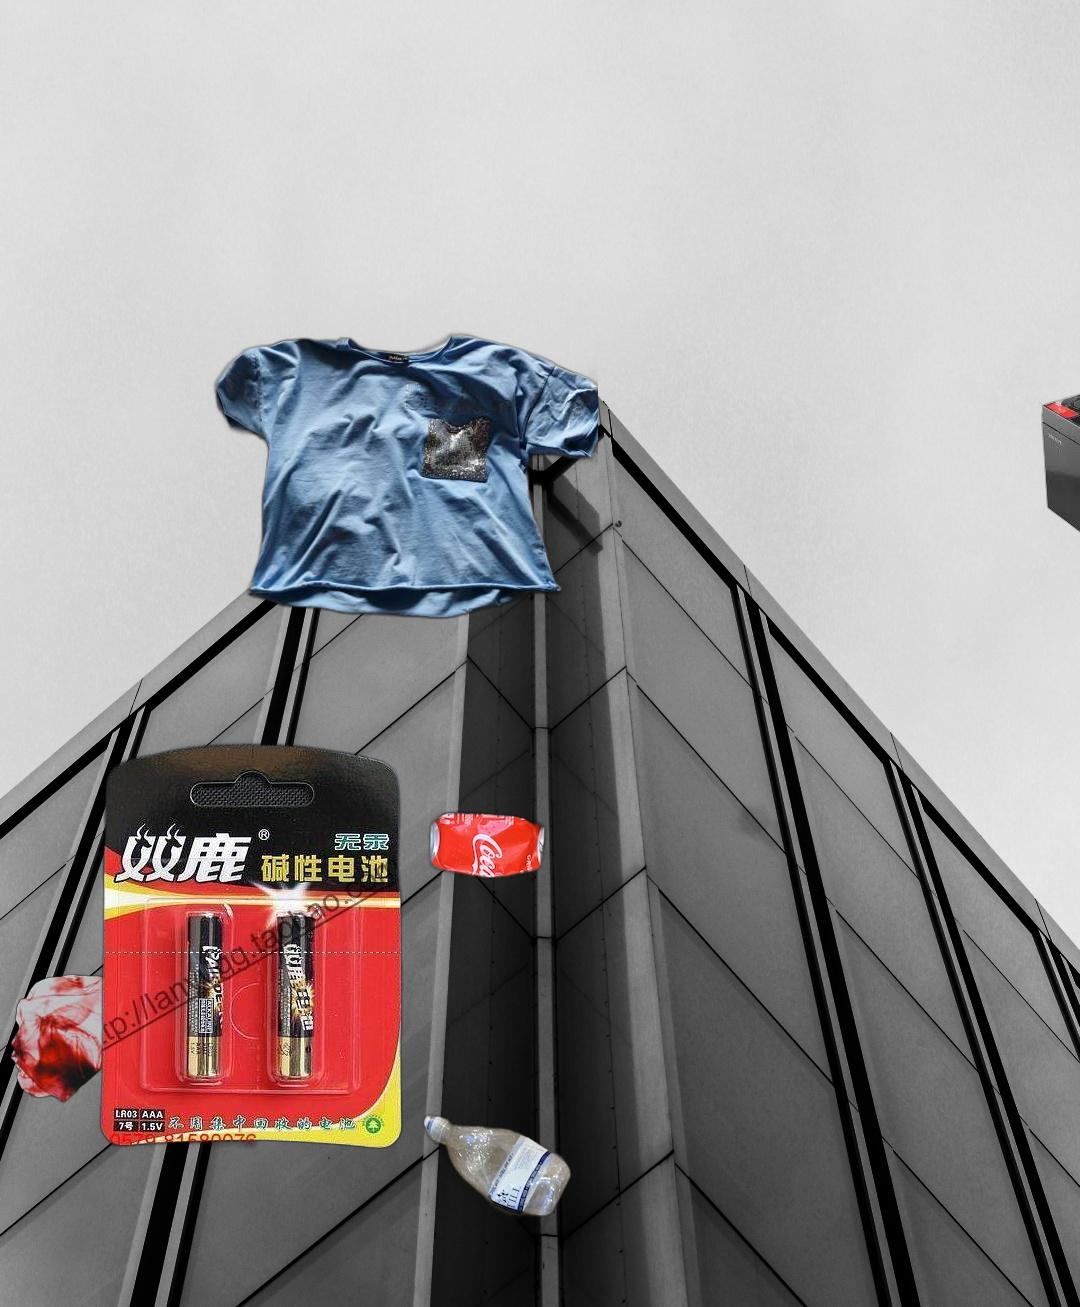battery: (94, 739, 407, 1152), (1038, 359, 1080, 545)
clothes: (209, 329, 598, 624)
metal-cans: (234, 805, 549, 1247)
plastic-bag: (7, 966, 166, 1105)
plastic-bottles: (306, 1111, 575, 1307)
